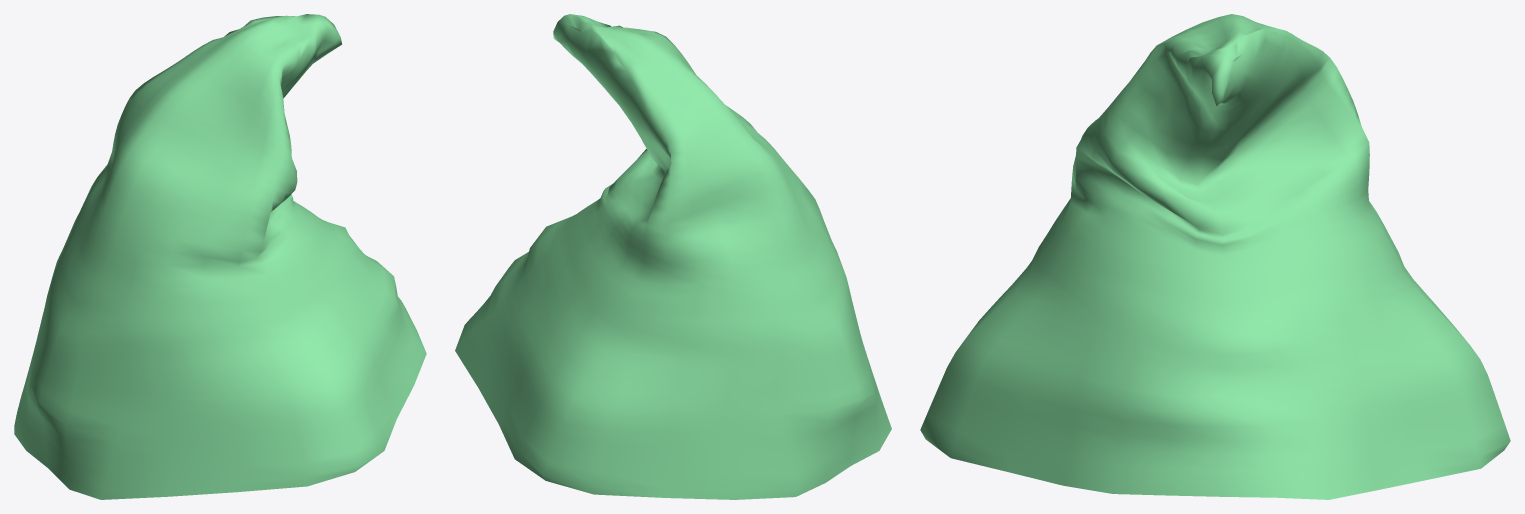
Rendered from hat.fbx.
3 views of the same model, side by side, from view 1: azimuth 30°, elevation 25°; view 2: azimuth 150°, elevation 25°; view 3: azimuth 270°, elevation 25° (orthographic). The views are drawn at different scales.
Visible parts, largest first — view 1: hatsmooth.003; view 2: hatsmooth.003; view 3: hatsmooth.003.
Boxes of the visible parts, left/top/right/bottom form: hatsmooth.003: left=14, top=14, right=426, bottom=499; hatsmooth.003: left=455, top=14, right=891, bottom=499; hatsmooth.003: left=920, top=14, right=1510, bottom=499.
Size of the model in its own units: 305 by 306 by 338.
